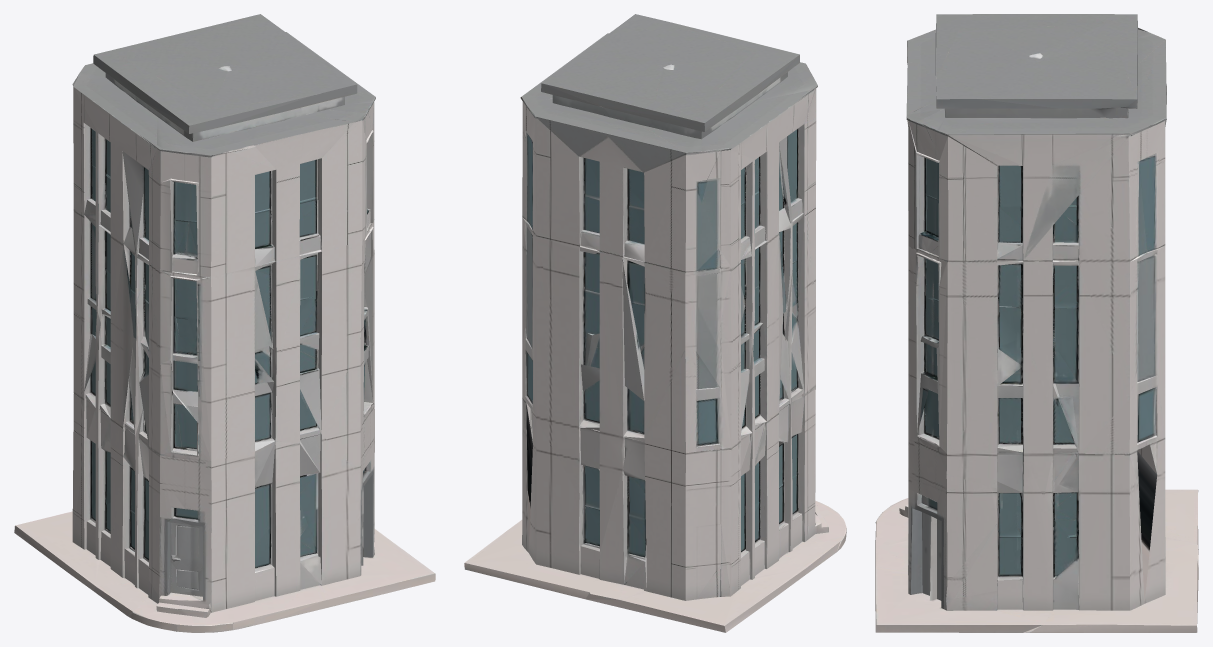
Rendered from building-glass.glb.
The picture shows the model from 3 angles, left to right: view 1: azimuth 30°, elevation 25°; view 2: azimuth 150°, elevation 25°; view 3: azimuth 270°, elevation 25°; orthographic projection. The views are drawn at different scales.
Size of the model in its own units: 1.09 by 1.9 by 1.09.
Materials: 1 (1 with a texture image).
